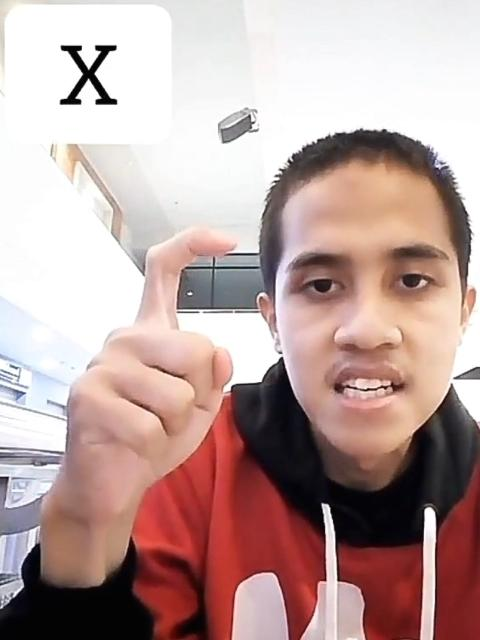X: (54, 212, 250, 516)
